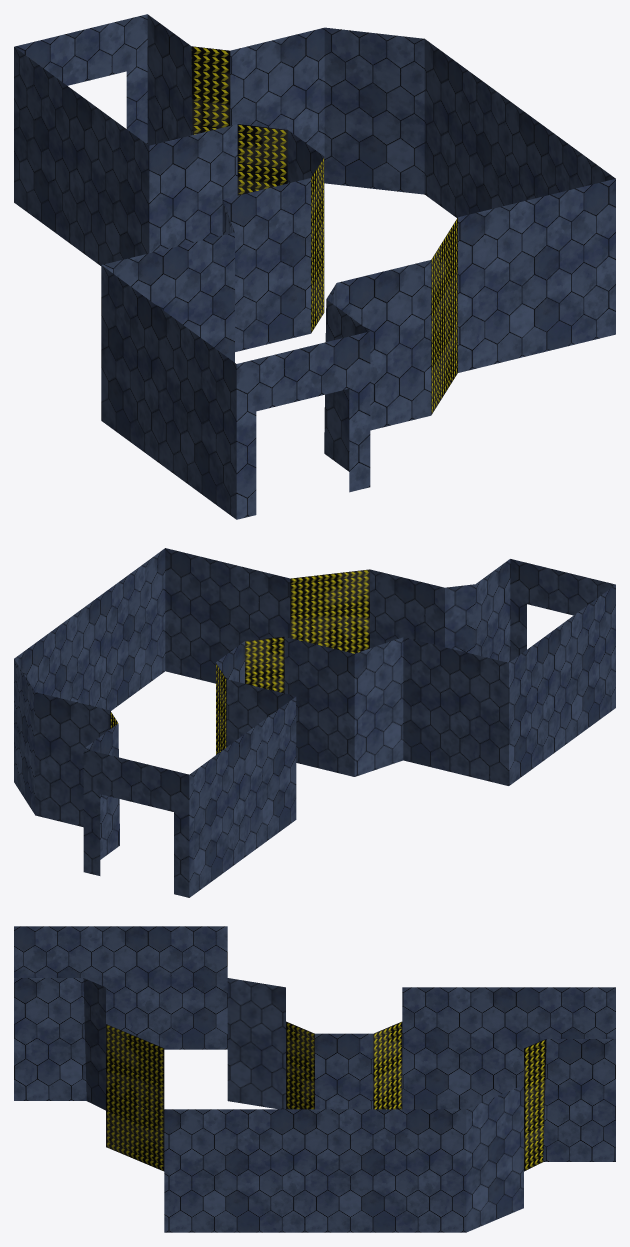
Rendered from Wall_Lab.fbx.
3 renders of one model, top to bottom at view 1: azimuth 30°, elevation 25°; view 2: azimuth 150°, elevation 25°; view 3: azimuth 270°, elevation 25°, orthographic. The views are drawn at different scales.
Visible parts, largest first — view 1: Wall_Wo_Arrow, Wall_Arrow; view 2: Wall_Wo_Arrow, Wall_Arrow; view 3: Wall_Wo_Arrow, Wall_Arrow.
Part boxes in pixels (bbox=[...]): Wall_Wo_Arrow: bbox=[14, 14, 615, 519]; Wall_Arrow: bbox=[191, 46, 457, 414]; Wall_Wo_Arrow: bbox=[14, 548, 615, 897]; Wall_Arrow: bbox=[110, 569, 369, 754]; Wall_Wo_Arrow: bbox=[14, 926, 615, 1232]; Wall_Arrow: bbox=[106, 1021, 546, 1171].
Size of the model in its own units: 3303 by 1037 by 4592.
2 materials, 2 textured.
